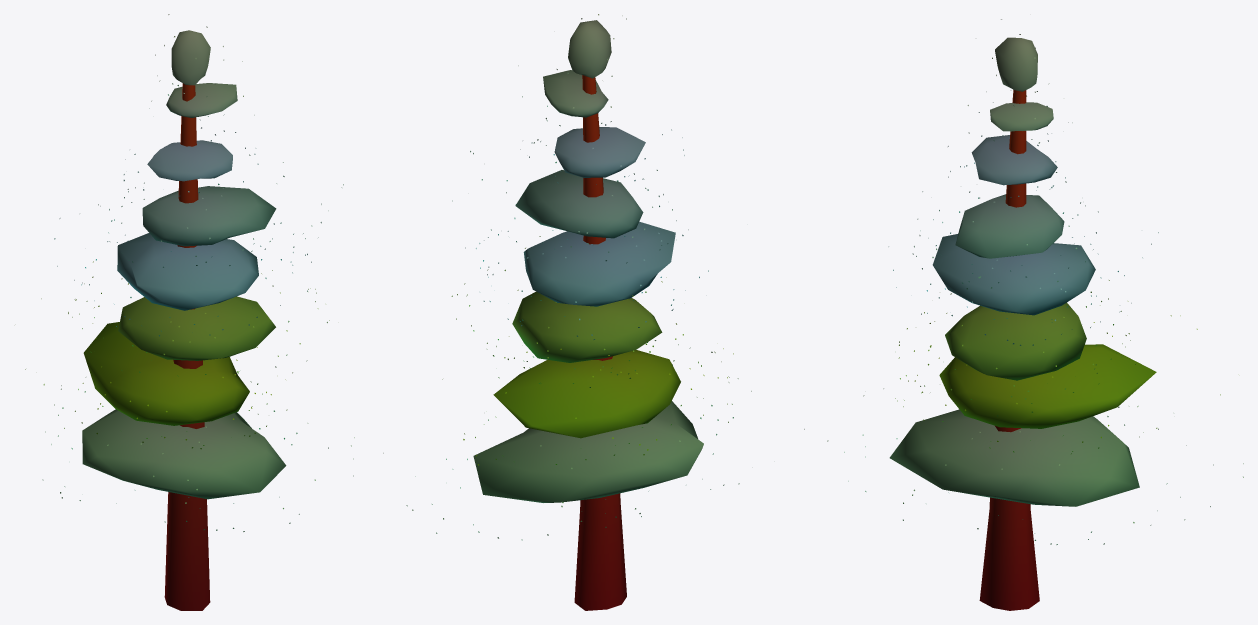
Rendered from card_spruce.glb.
The picture shows the model from 3 angles, left to right: view 1: azimuth 30°, elevation 25°; view 2: azimuth 150°, elevation 25°; view 3: azimuth 270°, elevation 25°; orthographic projection. The views are drawn at different scales.
Visible parts, largest first — view 1: card_spruce_LOD0; view 2: card_spruce_LOD0; view 3: card_spruce_LOD0.
Part boxes in pixels (box(x1,y1,x2,y2)): card_spruce_LOD0: box(25, 14, 354, 610); card_spruce_LOD0: box(383, 14, 751, 610); card_spruce_LOD0: box(804, 19, 1243, 610).
Size of what is drawn, in the model's own units: 4.86 by 8.98 by 6.13.
